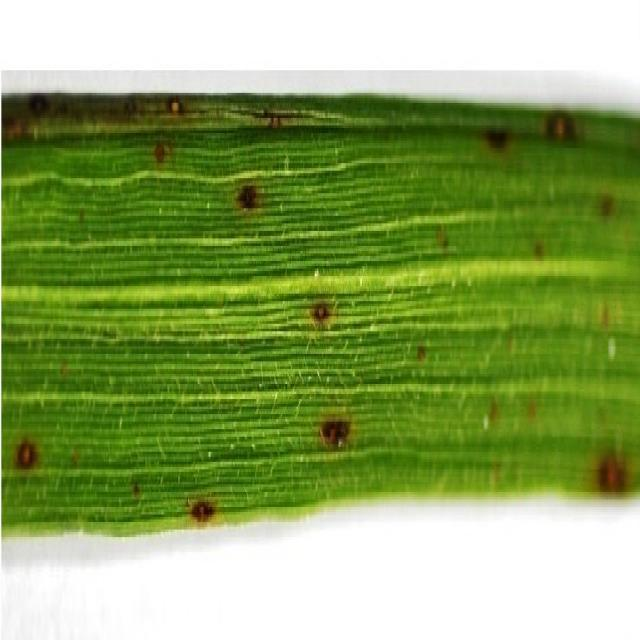Leafsmut: (598, 453, 627, 494), (319, 415, 352, 450), (492, 456, 523, 490), (545, 110, 575, 140), (71, 205, 93, 243), (15, 437, 39, 471), (310, 299, 333, 326), (3, 116, 25, 142), (191, 500, 214, 523), (484, 128, 509, 149), (434, 224, 450, 254), (237, 185, 256, 209), (29, 94, 48, 115), (620, 223, 636, 247), (489, 461, 503, 488), (486, 398, 500, 424), (123, 96, 139, 117), (596, 403, 610, 427), (599, 303, 612, 328), (601, 194, 614, 217), (525, 399, 538, 421), (533, 240, 546, 258), (507, 333, 518, 354), (70, 448, 81, 467), (154, 144, 165, 162), (60, 358, 70, 377), (217, 291, 228, 308), (632, 129, 640, 152), (131, 482, 142, 498), (608, 338, 616, 360), (283, 153, 291, 175), (32, 122, 40, 142), (417, 344, 425, 361), (166, 140, 174, 157), (482, 414, 490, 431), (170, 98, 179, 112), (78, 208, 86, 223), (185, 499, 193, 513), (269, 117, 280, 127), (101, 329, 112, 339), (261, 108, 270, 120), (313, 269, 320, 278), (205, 202, 212, 210)
